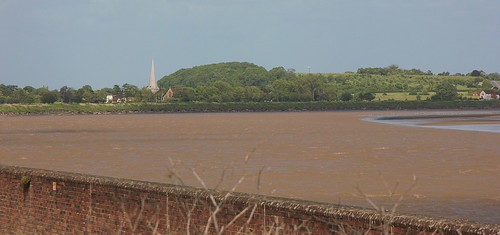beach: (8, 113, 500, 191)
sky: (1, 1, 494, 71)
vegetation: (7, 69, 489, 109)
wall: (2, 167, 500, 235)
